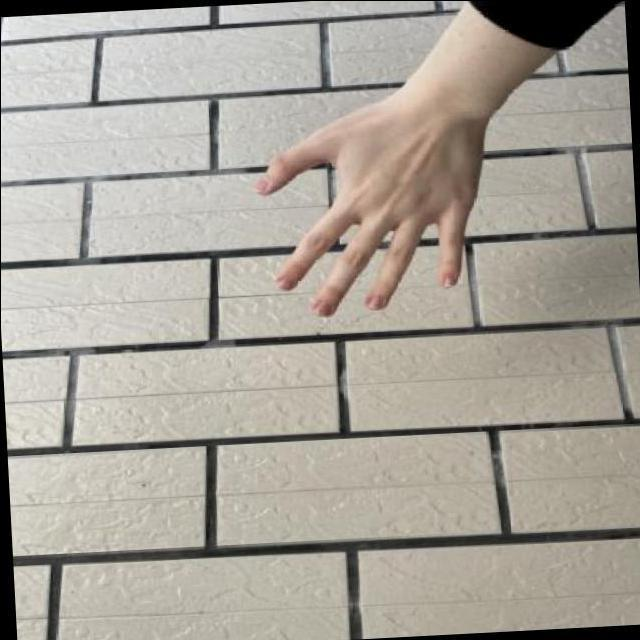hand: (242, 88, 498, 334)
